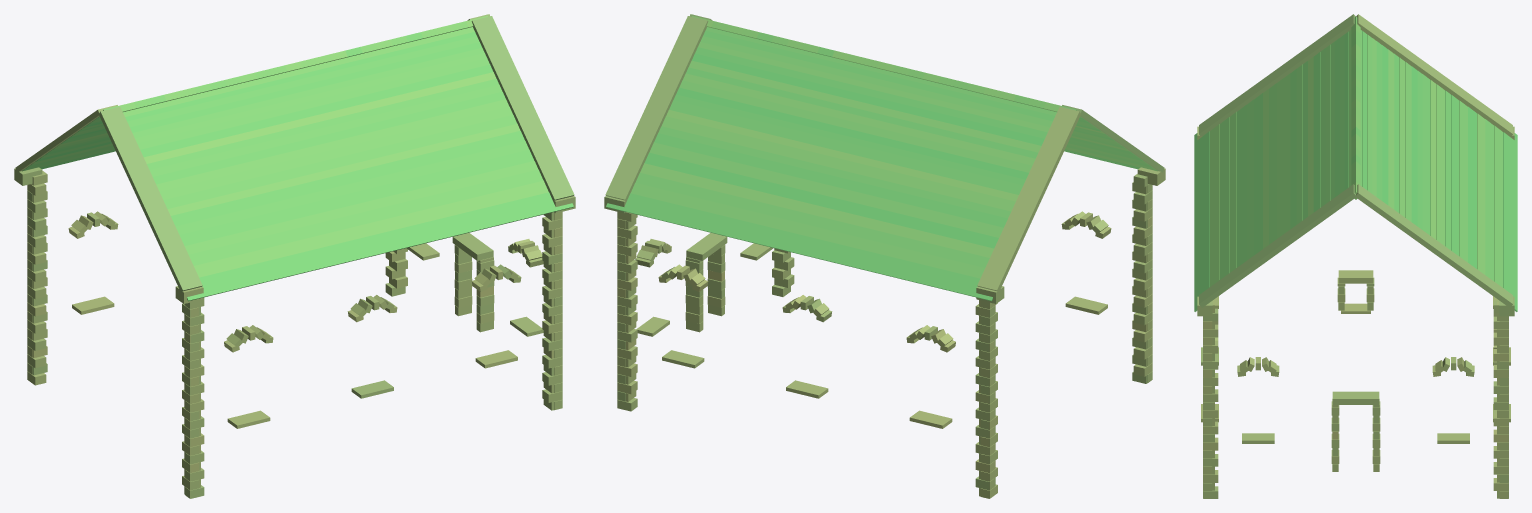
The model's file is SM_Bld_083_Stone.glb.
3 renders of one model, left to right at view 1: azimuth 30°, elevation 25°; view 2: azimuth 150°, elevation 25°; view 3: azimuth 270°, elevation 25°, orthographic. The views are drawn at different scales.
Parts seen in each view (by area): view 1: SM_Bld_083_Stone; view 2: SM_Bld_083_Stone; view 3: SM_Bld_083_Stone.
Part boxes in pixels (box(x1,y1,x2,y2)): SM_Bld_083_Stone: box(14, 14, 575, 498); SM_Bld_083_Stone: box(604, 14, 1165, 498); SM_Bld_083_Stone: box(1194, 14, 1517, 498).
Size of the model in its own units: 14.26 by 11.52 by 10.89.
